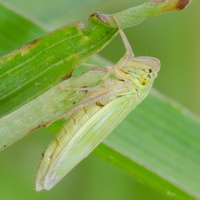insect: (36, 24, 159, 190)
